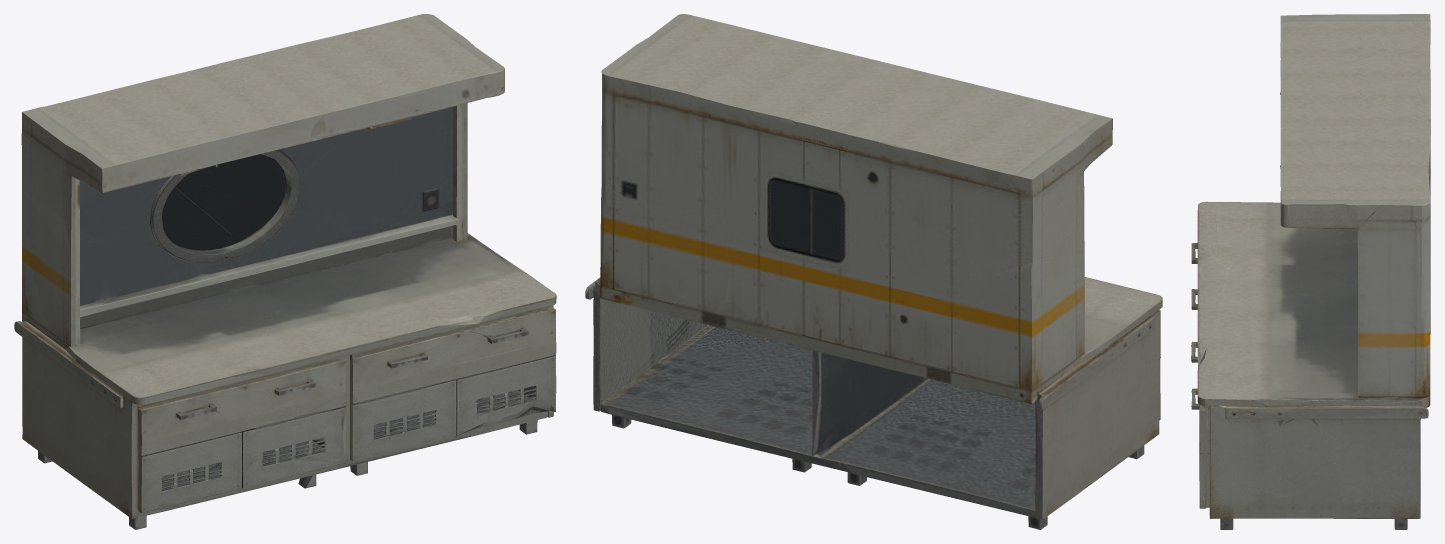
Rendered from web.glb.
3 renders of one model, left to right at view 1: azimuth 30°, elevation 25°; view 2: azimuth 150°, elevation 25°; view 3: azimuth 270°, elevation 25°, orthographic. The views are drawn at different scales.
Parts seen in each view (by area): view 1: output_unwrapped; view 2: output_unwrapped; view 3: output_unwrapped.
Boxes of the visible parts, left/top/right/bottom form: output_unwrapped: left=14, top=14, right=556, bottom=529; output_unwrapped: left=585, top=14, right=1162, bottom=529; output_unwrapped: left=1191, top=14, right=1430, bottom=529.
Bounding box in the file's own units: 1.9 × 1.43 × 0.9541.
1 material, 1 textured.
